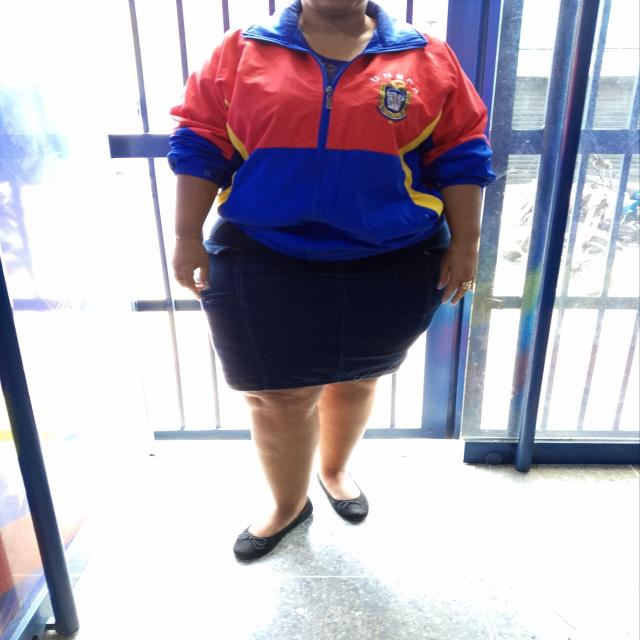chaqueta_unefa: (167, 0, 497, 262)
pantalon_oscuro: (200, 216, 452, 390)
